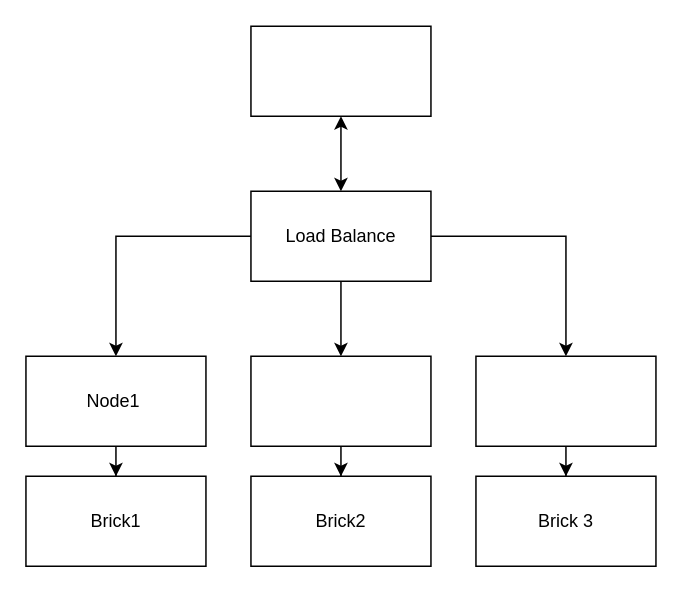
Some shapes in this 683 by 593 pixel diagram are drawn without their labels. Each missing label, with the centre of its shape:
Client: point 340,70
Node 2: point 340,400
Node 3: point 565,400
